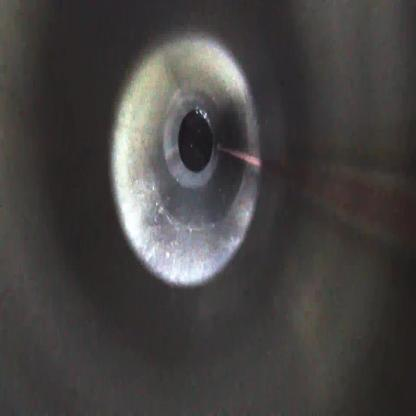NoCrack: (110, 29, 262, 289)
